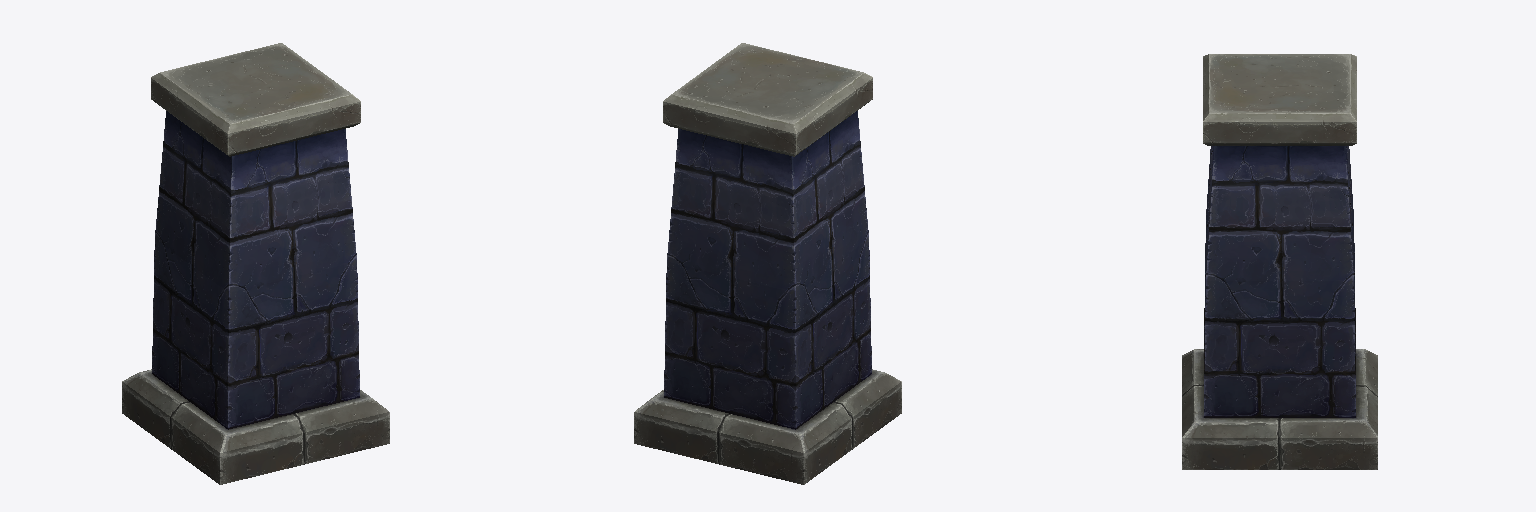
The picture shows the model from 3 angles: view 1: azimuth 30°, elevation 25°; view 2: azimuth 150°, elevation 25°; view 3: azimuth 270°, elevation 25°; orthographic projection.
Parts seen in each view (by area): view 1: Column_Cube; view 2: Column_Cube; view 3: Column_Cube.
Part boxes in pixels (x1,y1,x2,y2): Column_Cube: (122, 43, 389, 484); Column_Cube: (634, 43, 901, 484); Column_Cube: (1182, 54, 1377, 469).
Size of the model in its own units: 1.77 by 3.45 by 1.77.
1 materials, 1 textured.